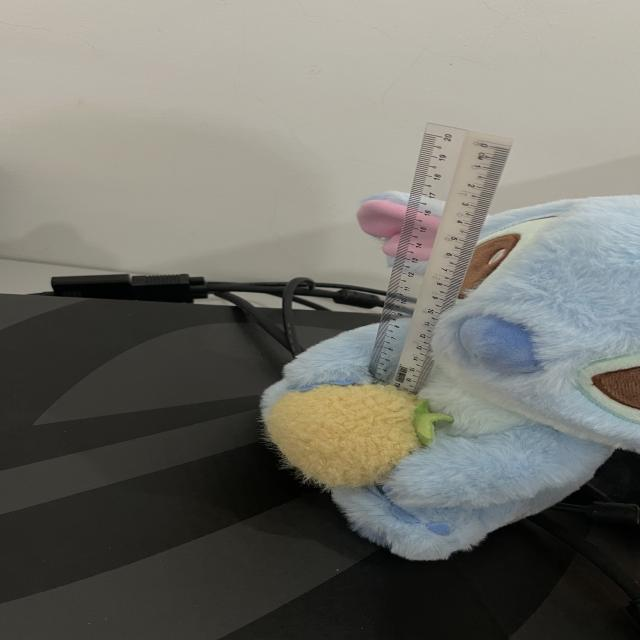ruler: (370, 123, 512, 394)
